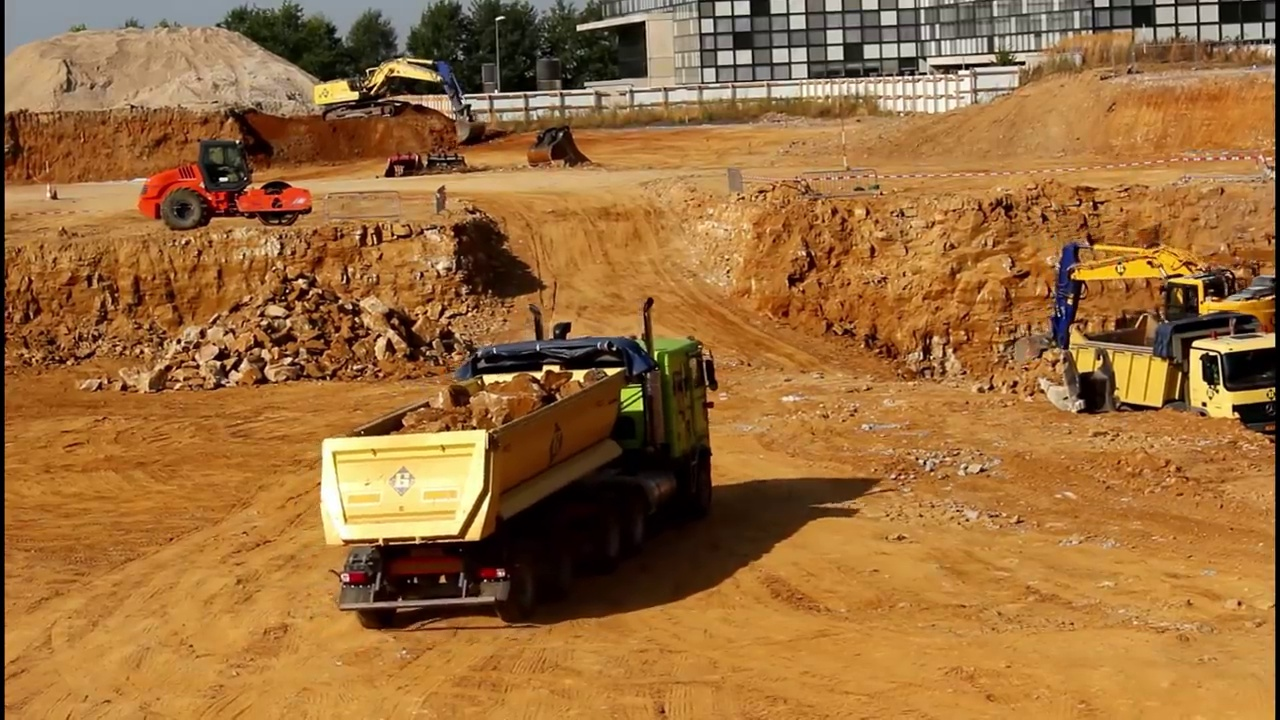compactor: (136, 137, 315, 230)
excavator: (1010, 236, 1280, 396), (309, 54, 489, 148)
truck: (316, 293, 726, 634), (1062, 310, 1280, 459)
